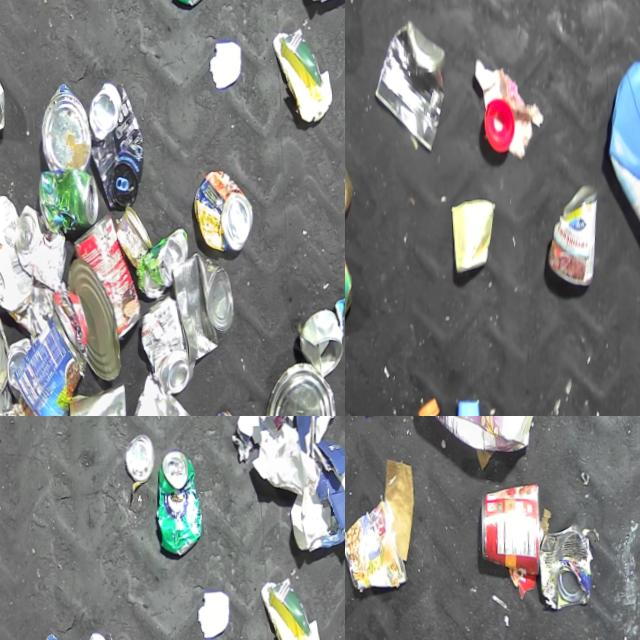can: (370, 16, 451, 157), (71, 214, 144, 344), (12, 310, 93, 416), (86, 80, 147, 210), (170, 252, 238, 368), (68, 258, 122, 385), (478, 482, 545, 580), (545, 181, 602, 290), (345, 498, 409, 592), (140, 296, 197, 398), (537, 522, 598, 614), (154, 450, 205, 558), (193, 169, 256, 256), (14, 202, 71, 295), (38, 83, 93, 173), (261, 360, 340, 416), (40, 167, 102, 236), (136, 228, 192, 302), (298, 312, 345, 381), (115, 206, 155, 271), (67, 383, 129, 416), (7, 337, 35, 403), (124, 435, 155, 484), (0, 298, 12, 399), (3, 401, 72, 416)
non_white_jug: (602, 55, 640, 292), (401, 416, 542, 463)
plastic_bottle: (416, 394, 478, 416)
